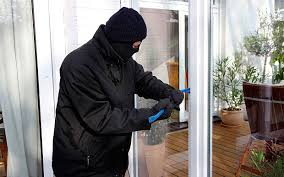crowbar: (146, 87, 191, 124)
